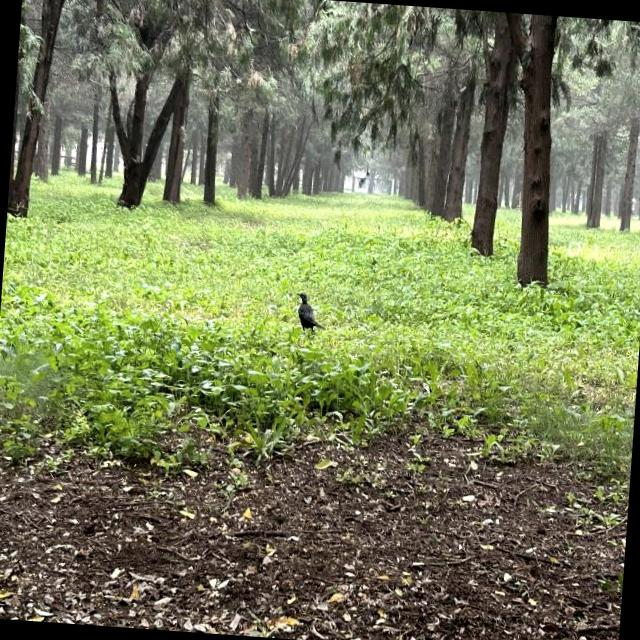bird: (292, 288, 326, 332)
